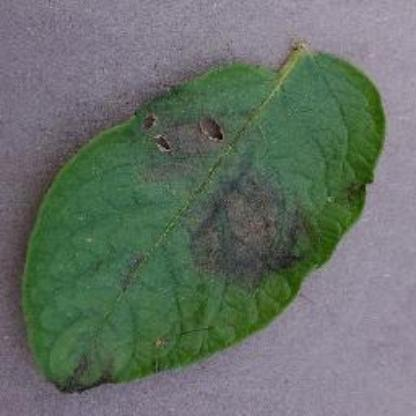Late-Blight: (21, 38, 390, 396)
